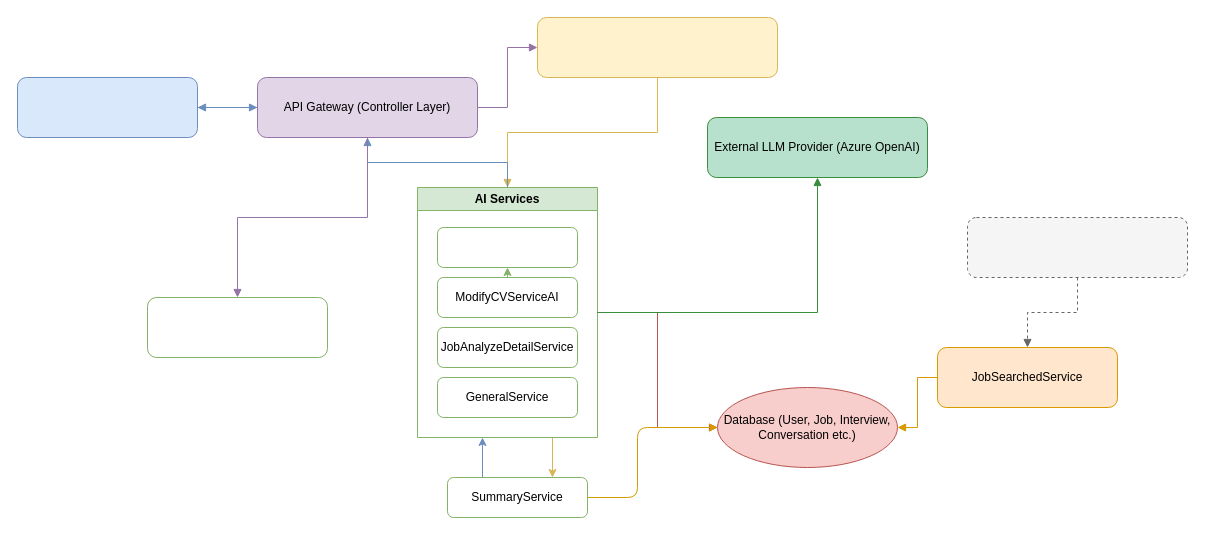
Image size: 1205x535. Some labels were removed from this diagram. The shapes that lost their labels are listed below. From the top down, each one's centre as x and y in pixels, then its label:
At (x=657, y=47): "Intent Detection (IntentDetectionService)".
At (x=107, y=107): "User Interface (Frontend)".
At (x=507, y=247): "ResumeAdviceService".
At (x=1077, y=247): "SearchJobsAPIService (External Job API)".
At (x=237, y=327): "InterviewServiceAI".
